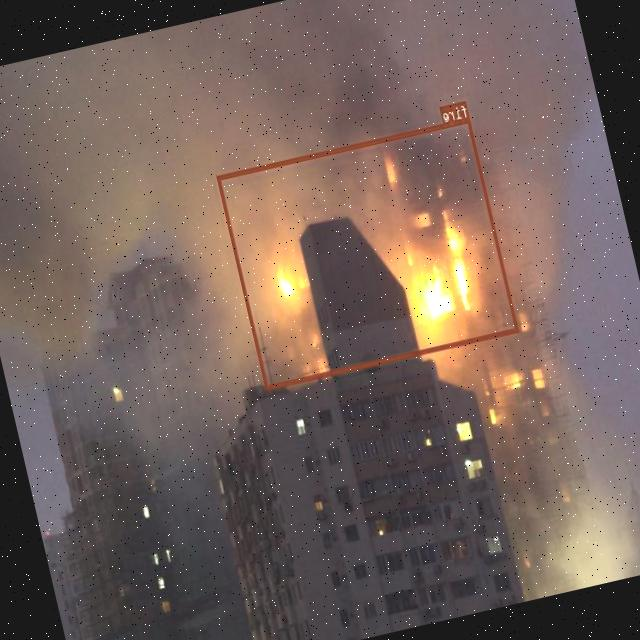fire: (216, 116, 519, 389)
